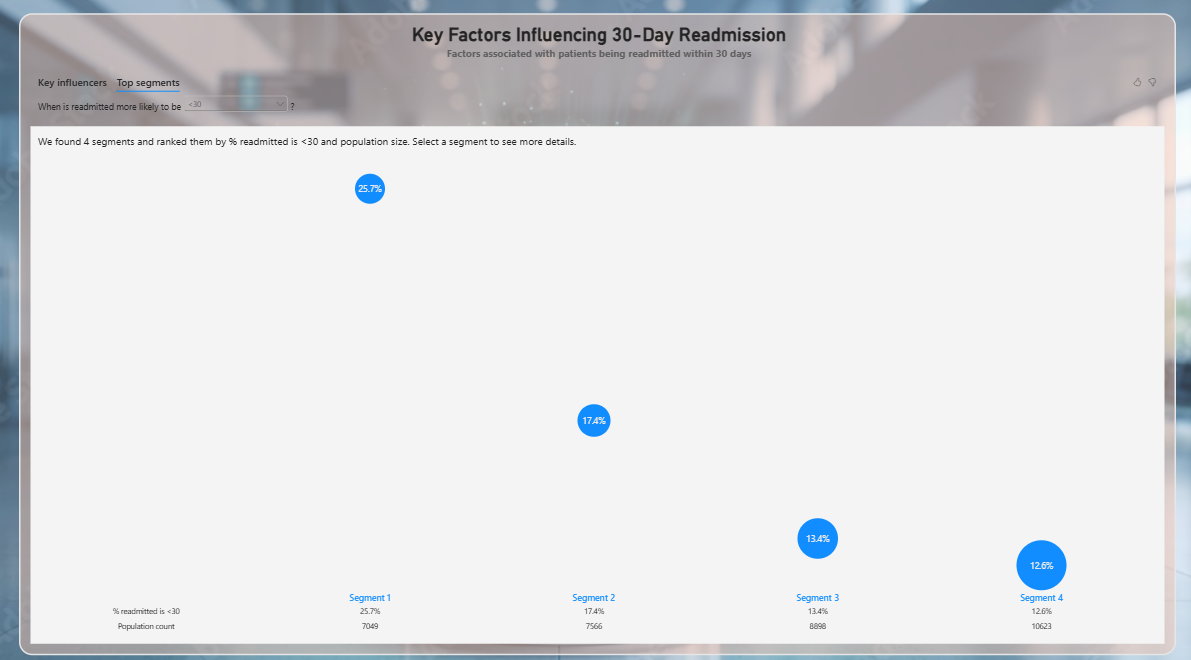

This screenshot's page, from the dashboard's own definition file:
{"tool":"powerbi","page":{"name":"Readmission Drivers","canvas":[1920,1080],"ordinal":5},"visuals":[{"type":"keyDriversVisual","title":"Key Factors Influencing 30-Day Readmission","fields":{"ExplainBy":["diabetic_data.age","diabetic_data.gender","diabetic_data.race","Sum(diabetic_data.time_in_hospital)","Sum(diabetic_data.num_medications)","Sum(diabetic_data.num_lab_procedures)","Sum(diabetic_data.number_diagnoses)","Sum(diabetic_data.num_procedures)","Sum(diabetic_data.number_emergency)","Sum(diabetic_data.number_inpatient)","Sum(diabetic_data.number_outpatient)","diabetic_data.A1Cresult"],"Target":["diabetic_data.readmitted"]},"box":[31.3,25.8,1851.5,1027],"z":0}]}

Visuals, with their boxes in screenshot pixels (x1, y1, x2, y2), scaled from the page's 1920x1080 canvas onto the 1191x660 screenshot:
"Key Factors Influencing 30-Day Readmission" keyDriversVisual: bbox(19, 16, 1168, 643)
